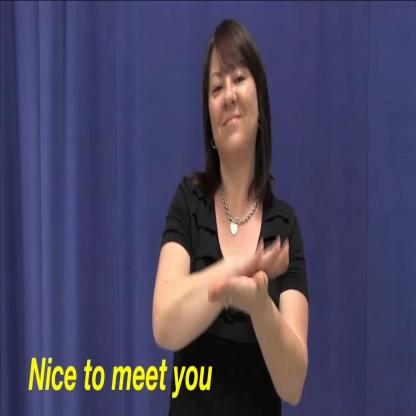NiceToMeetYou: (206, 214, 295, 338)
